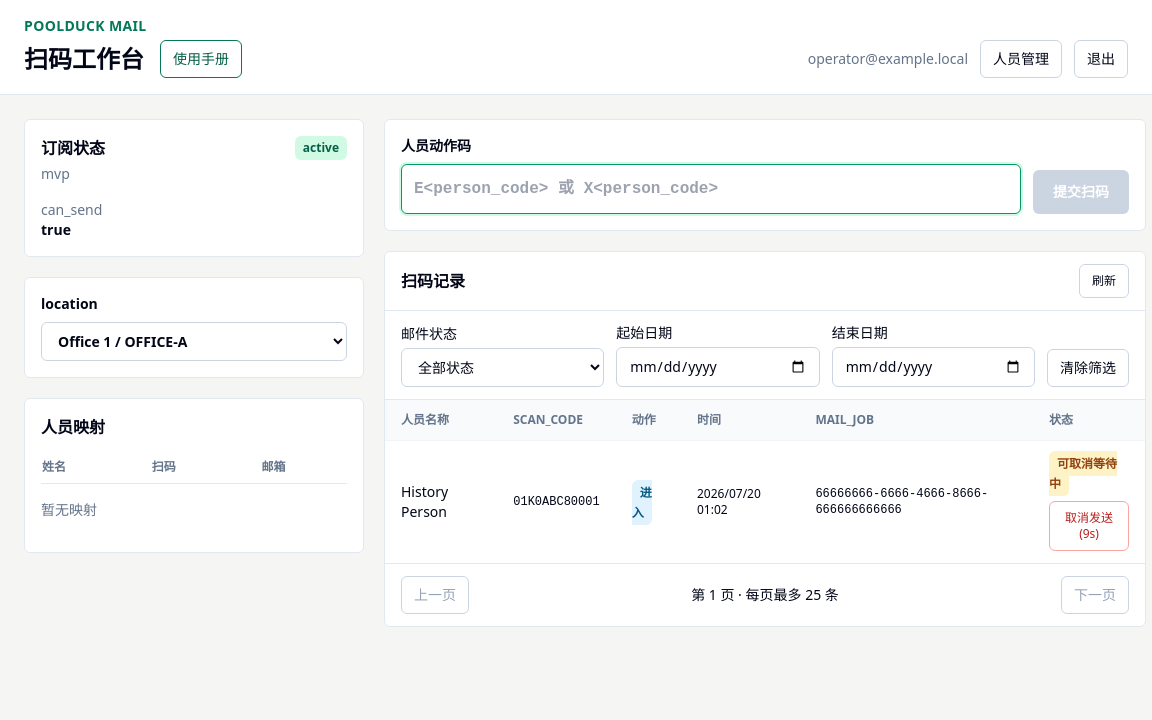
Test: history workspace › shows cancellation result unknown and refreshes instead of claiming success
Click the button with test id "scan-cancel". click: (1089, 526)
box: [1049,501,1129,551]
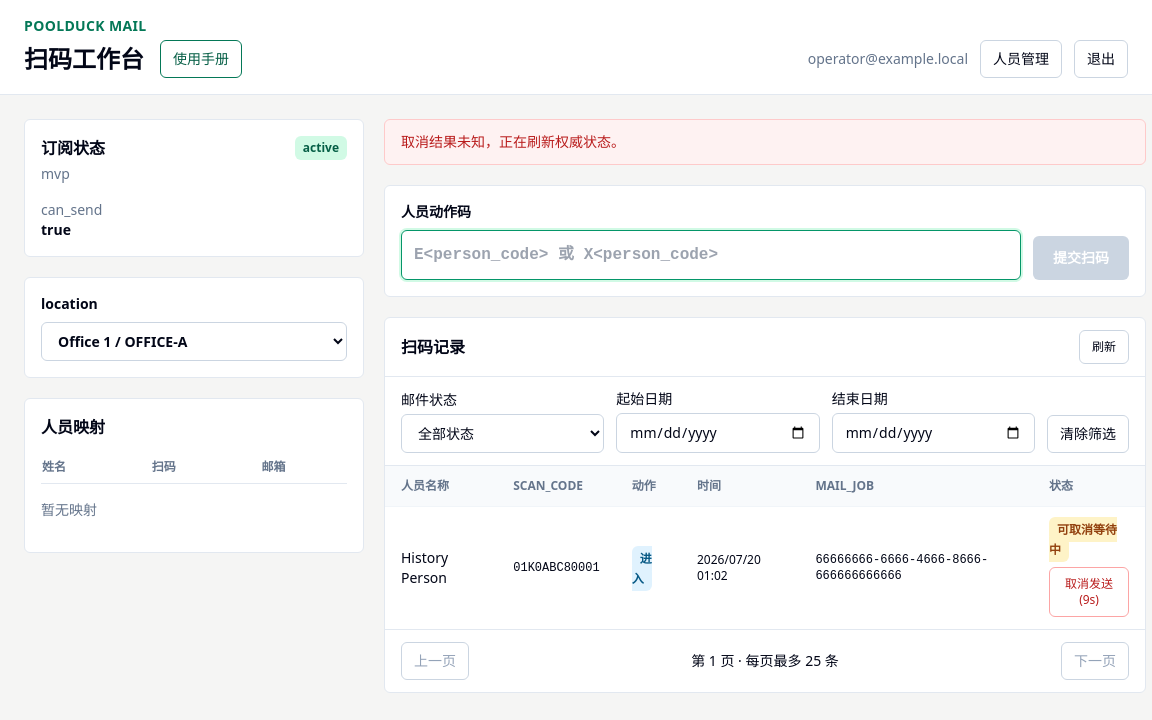
Expected: the text with test id "mail-status" reads "可取消等待中", [1049,521,1117,558]
Result: the text "取消结果未知，正在刷新权威状态。" is shown at [384,119,1146,165]
